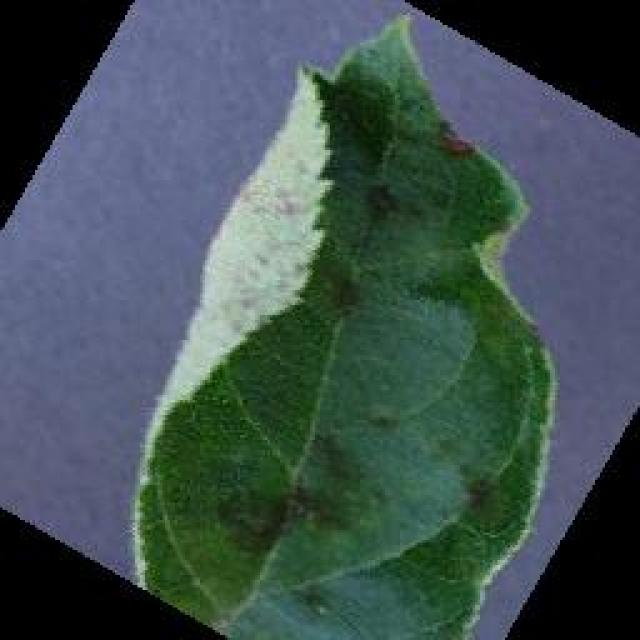apple scab disease: (128, 10, 560, 638)
